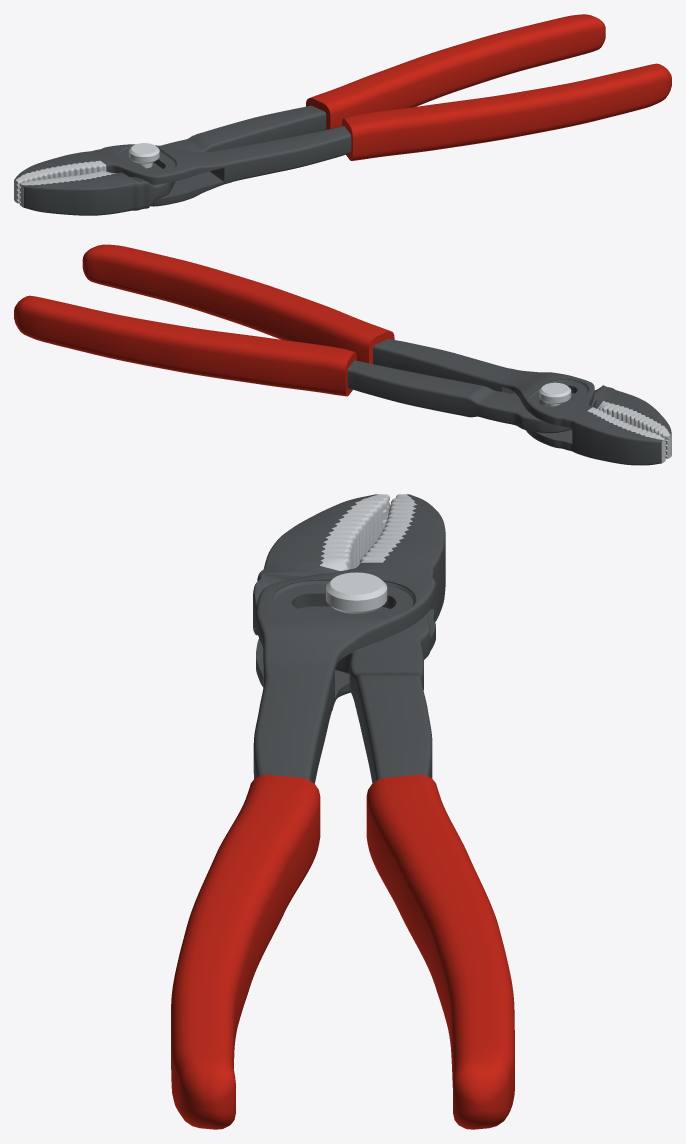
3 renders of one model, top to bottom at view 1: azimuth 30°, elevation 25°; view 2: azimuth 150°, elevation 25°; view 3: azimuth 270°, elevation 25°, orthographic. The views are drawn at different scales.
Visible parts, largest first — view 1: Lower handle coating, Upper handle coating, Forked upper jaw arm, Sliding lower jaw arm, Joint adjustment button; view 2: Upper handle coating, Lower handle coating, Forked upper jaw arm, Sliding lower jaw arm, Joint adjustment button; view 3: Lower handle coating, Upper handle coating, Forked upper jaw arm, Sliding lower jaw arm, Joint adjustment button.
Boxes of the visible parts, <box> form: Lower handle coating: <box>342,63,671,160</box>; Upper handle coating: <box>306,14,605,129</box>; Forked upper jaw arm: <box>14,126,351,206</box>; Sliding lower jaw arm: <box>19,105,326,215</box>; Joint adjustment button: <box>129,143,159,168</box>; Upper handle coating: <box>14,295,356,396</box>; Lower handle coating: <box>82,244,394,363</box>; Forked upper jaw arm: <box>373,339,665,465</box>; Sliding lower jaw arm: <box>347,360,671,458</box>; Joint adjustment button: <box>539,382,571,406</box>; Lower handle coating: <box>171,774,320,1129</box>; Upper handle coating: <box>366,774,514,1129</box>; Forked upper jaw arm: <box>253,494,445,783</box>; Sliding lower jaw arm: <box>253,494,432,783</box>; Joint adjustment button: <box>326,572,387,613</box>.
Size of the model in its own units: 0.2031 by 0.0144 by 0.0499.
